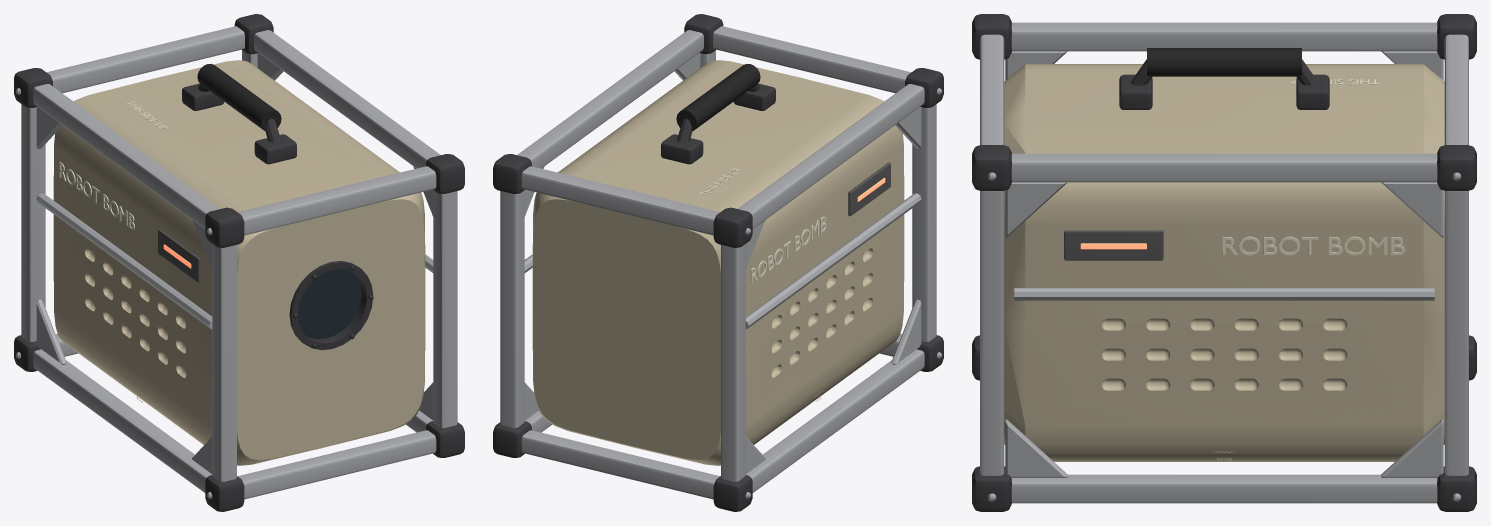
File: robotcase.glb
3 views of the same model, side by side, from view 1: azimuth 30°, elevation 25°; view 2: azimuth 150°, elevation 25°; view 3: azimuth 270°, elevation 25° (orthographic). The views are drawn at different scales.
Parts seen in each view (by area): view 1: Body; view 2: Body; view 3: Body.
Boxes of the visible parts, <box> form: Body: <box>14,14,464,511</box>; Body: <box>493,14,943,511</box>; Body: <box>972,14,1476,511</box>.
Size of the model in its own units: 0.3229 by 0.391 by 0.456.
